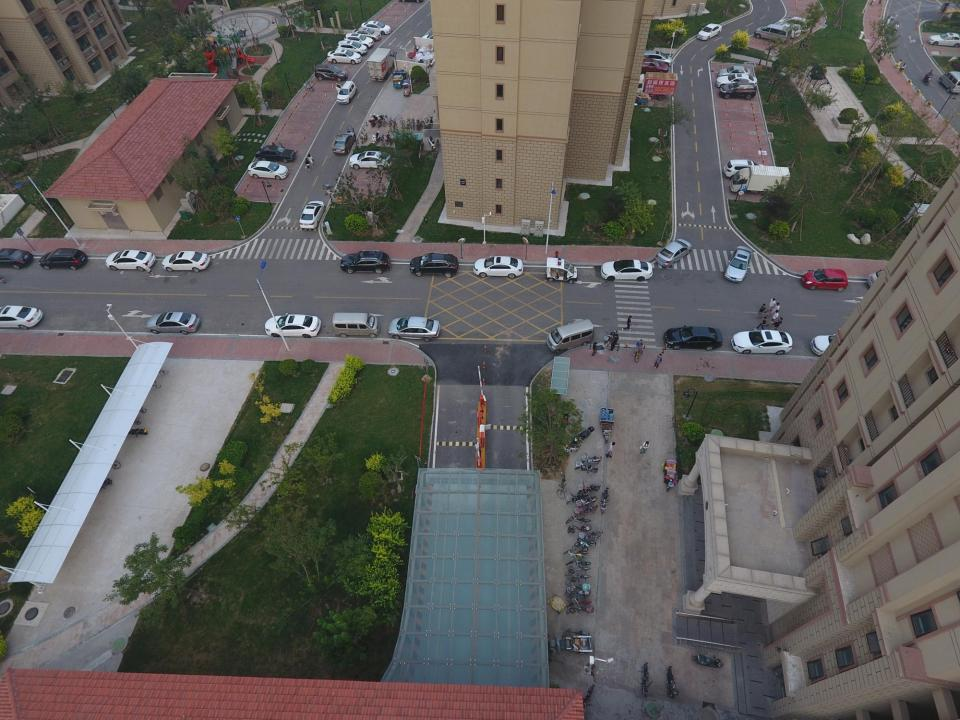car: (730, 329, 792, 355), (663, 324, 723, 350), (264, 312, 321, 338), (386, 316, 440, 342), (146, 310, 201, 335), (409, 252, 459, 277), (600, 258, 652, 282), (340, 250, 392, 274), (810, 333, 860, 357), (472, 255, 524, 278), (723, 245, 753, 283), (105, 249, 156, 271), (37, 248, 88, 270), (0, 304, 43, 330), (161, 250, 211, 272), (655, 238, 692, 267), (800, 269, 848, 291), (626, 57, 668, 78), (254, 142, 296, 163), (246, 160, 288, 180), (723, 159, 767, 177), (349, 152, 392, 170), (299, 200, 325, 229), (634, 50, 674, 68), (719, 81, 756, 100), (0, 248, 33, 269), (716, 74, 758, 90), (314, 64, 348, 82), (715, 64, 751, 80), (332, 130, 355, 155), (777, 16, 811, 32), (927, 32, 960, 48), (327, 49, 362, 64), (769, 22, 801, 38), (336, 40, 368, 56), (335, 81, 357, 104), (343, 32, 374, 48), (696, 23, 722, 41), (361, 20, 391, 35), (352, 28, 382, 42)
truck: (730, 165, 790, 193), (629, 71, 678, 101), (366, 48, 394, 80)
van: (546, 318, 594, 354), (332, 312, 380, 338), (867, 268, 910, 292), (754, 24, 792, 43), (938, 71, 960, 93)
